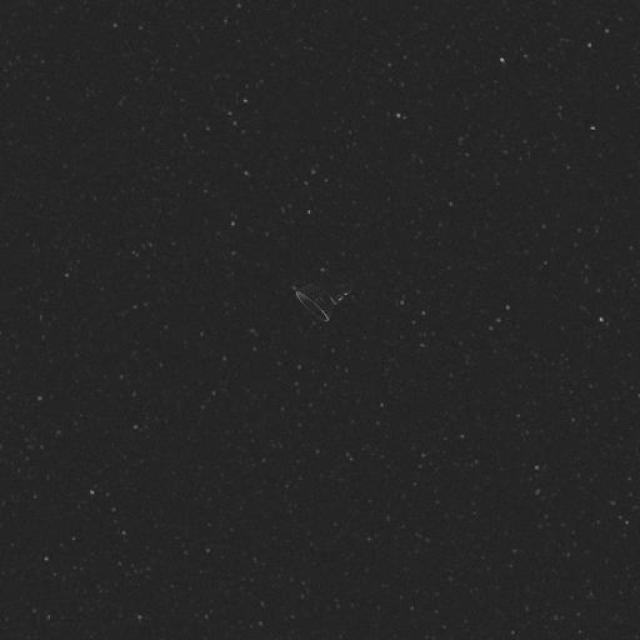debris: (273, 270, 358, 324)
